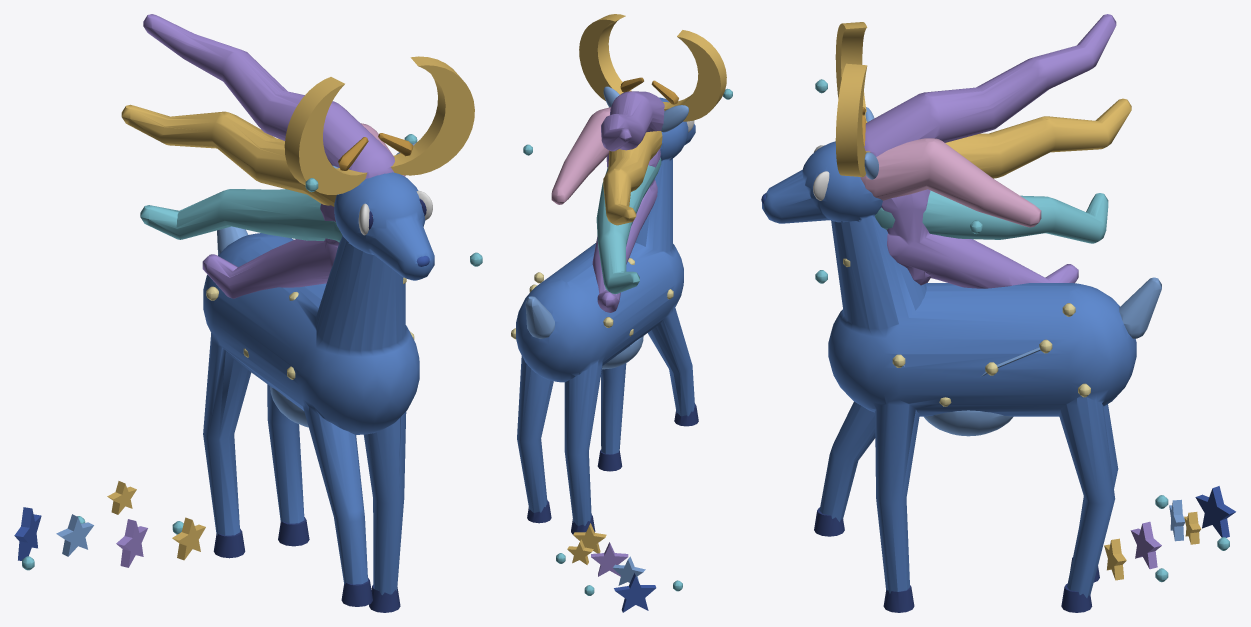
Rendered from starwhim.glb.
3 views of the same model, side by side, from view 1: azimuth 30°, elevation 25°; view 2: azimuth 150°, elevation 25°; view 3: azimuth 270°, elevation 25° (orthographic). The views are drawn at different scales.
Parts seen in each view (by area): view 1: creature; view 2: creature; view 3: creature.
Part boxes in pixels (bbox=[...]): creature: bbox=[14, 14, 482, 612]; creature: bbox=[511, 14, 732, 612]; creature: bbox=[761, 14, 1235, 612].
Size of the model in its own units: 0.5417 by 1 by 0.7624.
